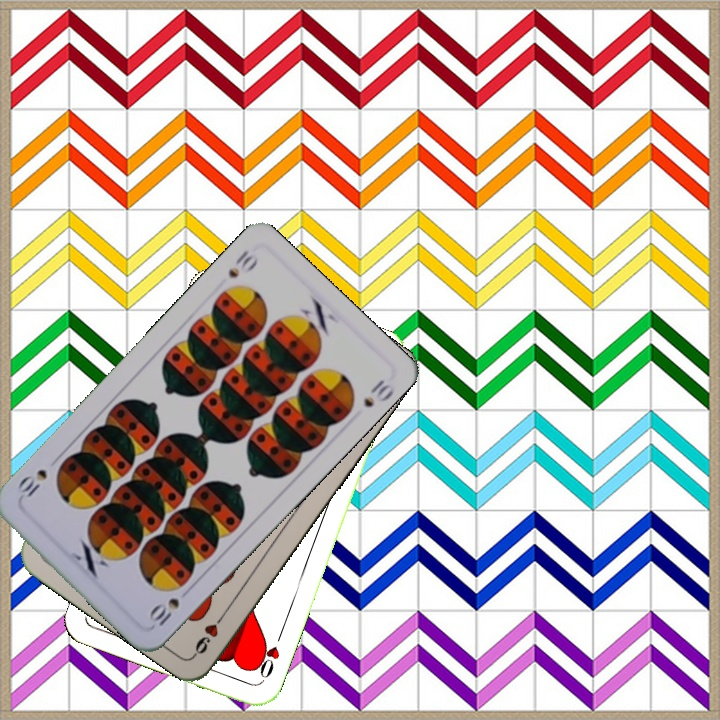H9: (190, 607, 230, 658)
HO: (250, 626, 286, 683)
S10: (144, 593, 182, 630), (224, 246, 261, 281)
